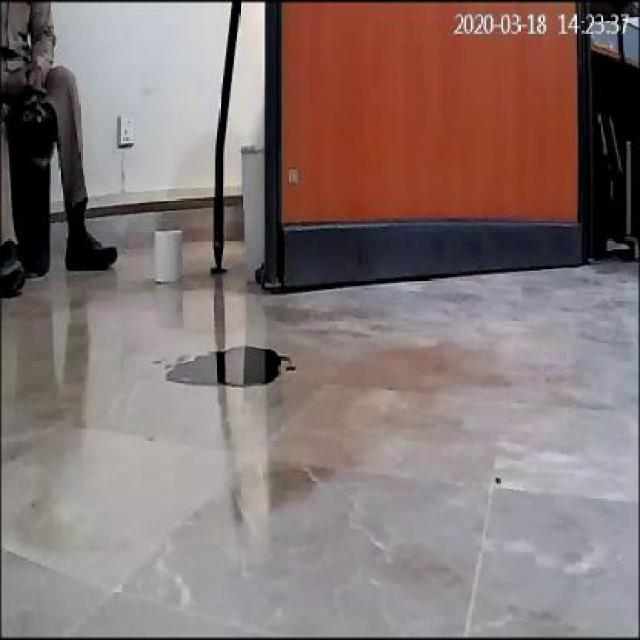spill: (165, 342, 282, 386)
